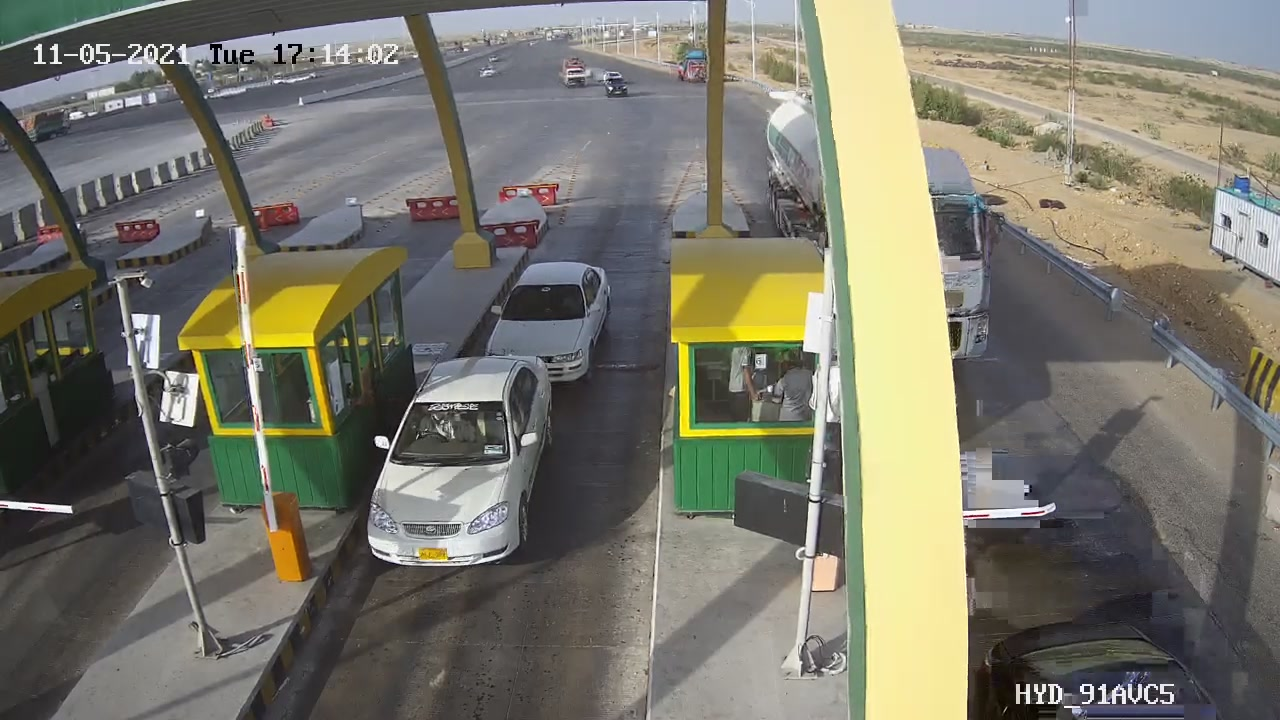F1: (347, 340, 579, 596), (474, 244, 626, 405)
